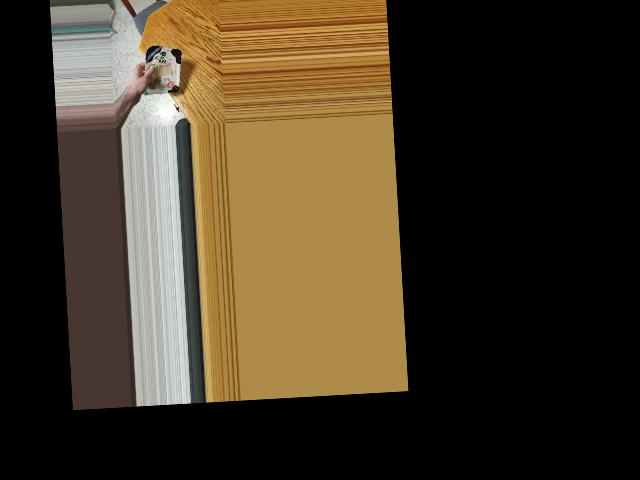cheese: (141, 42, 179, 101)
